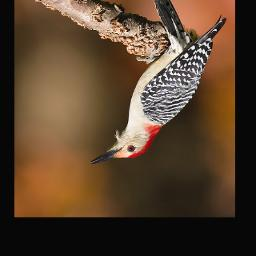Woodpecker: (89, 0, 229, 165)
